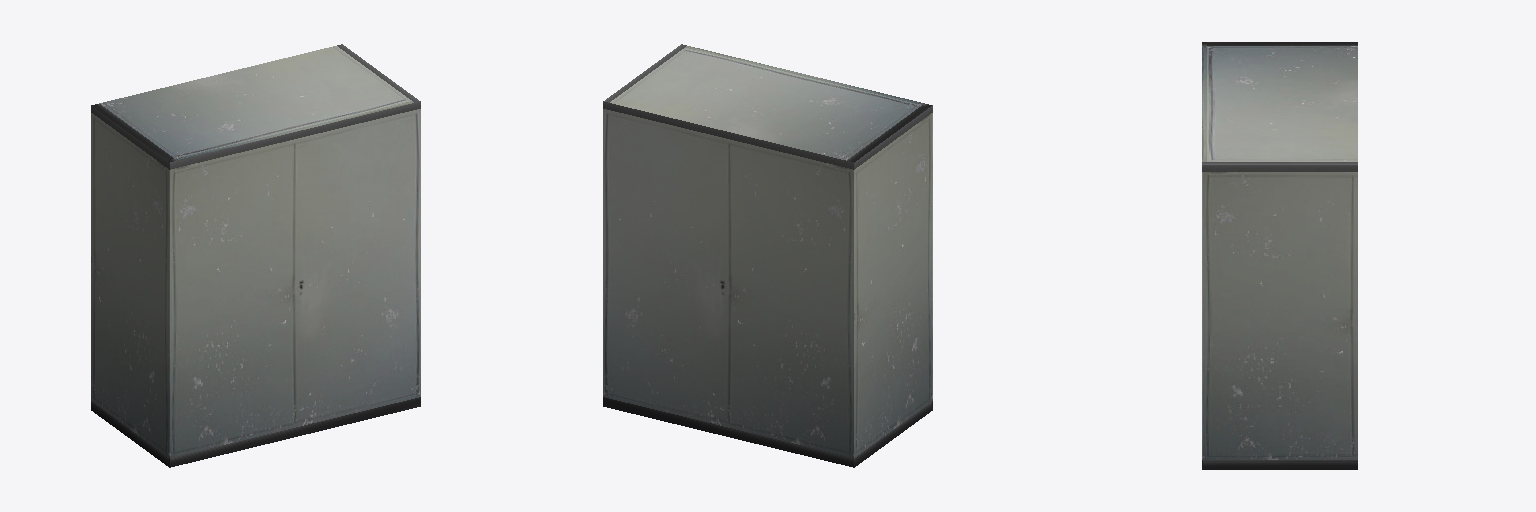
3 renders of one model, left to right at view 1: azimuth 30°, elevation 25°; view 2: azimuth 150°, elevation 25°; view 3: azimuth 270°, elevation 25°, orthographic.
Visible parts, largest first — view 1: electricBox_3; view 2: electricBox_3; view 3: electricBox_3.
Boxes of the visible parts, x1,y1,x2,y2 form: electricBox_3: [91, 44, 420, 467]; electricBox_3: [603, 44, 932, 467]; electricBox_3: [1202, 42, 1357, 469].
Size of the model in its own units: 0.8578 by 0.997 by 0.4634.
1 materials, 1 textured.